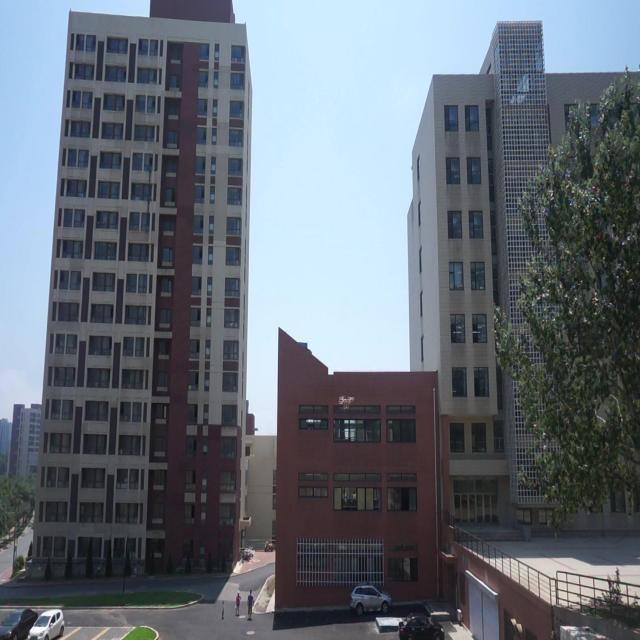UAV: (338, 396, 355, 410)
